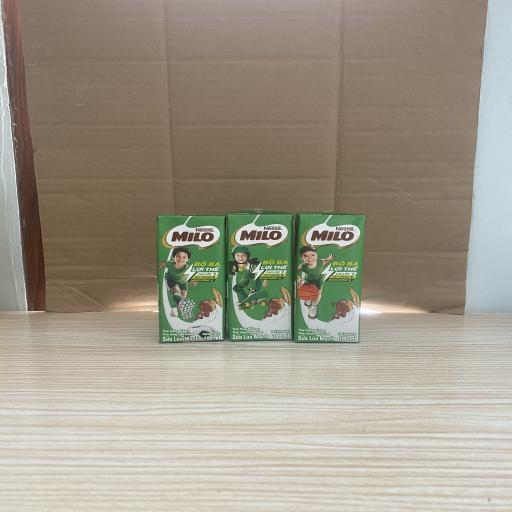milo: (294, 212, 366, 343), (156, 213, 227, 343), (227, 209, 294, 342)
